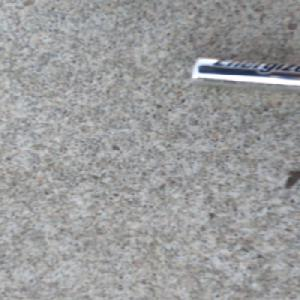Battery: (186, 55, 300, 97)
